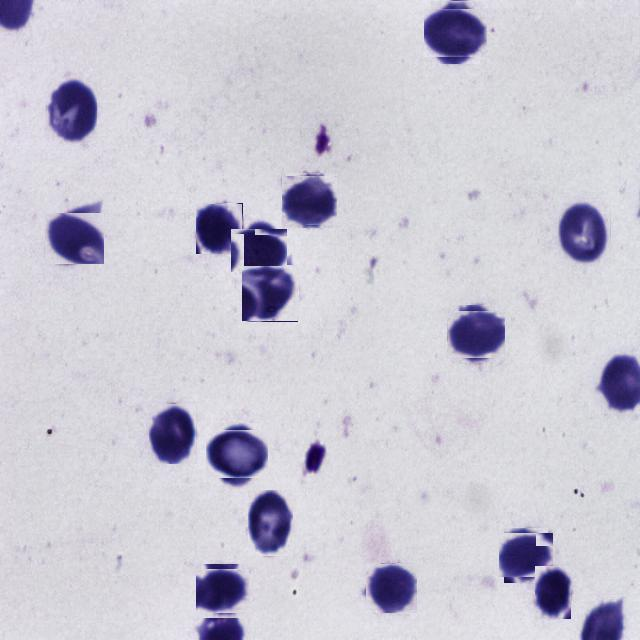red blood cell: (558, 198, 611, 266), (46, 78, 96, 143), (46, 210, 102, 266), (242, 266, 298, 322), (209, 427, 265, 482), (246, 490, 292, 556), (428, 5, 483, 60), (149, 403, 197, 464), (450, 308, 502, 361), (283, 174, 335, 227), (366, 564, 416, 614), (198, 566, 248, 616), (234, 225, 284, 275), (502, 530, 550, 580), (196, 203, 243, 254), (535, 566, 571, 619)
